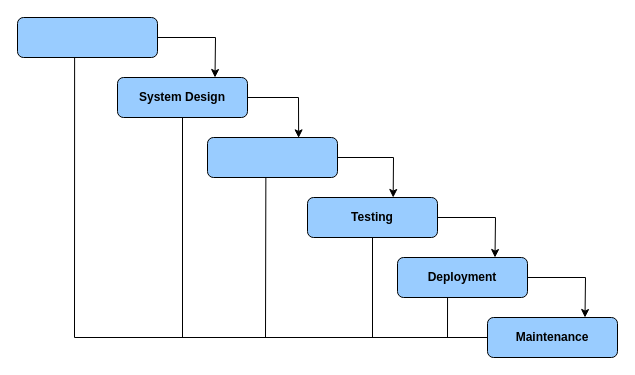
Image size: 635x375. Some labels were removed from this diagram. The centre of each missing label's shape, as x and y in pixels:
"Implementation" belongs at pixel 272 157.
"Requirement Analysis" belongs at pixel 87 37.
